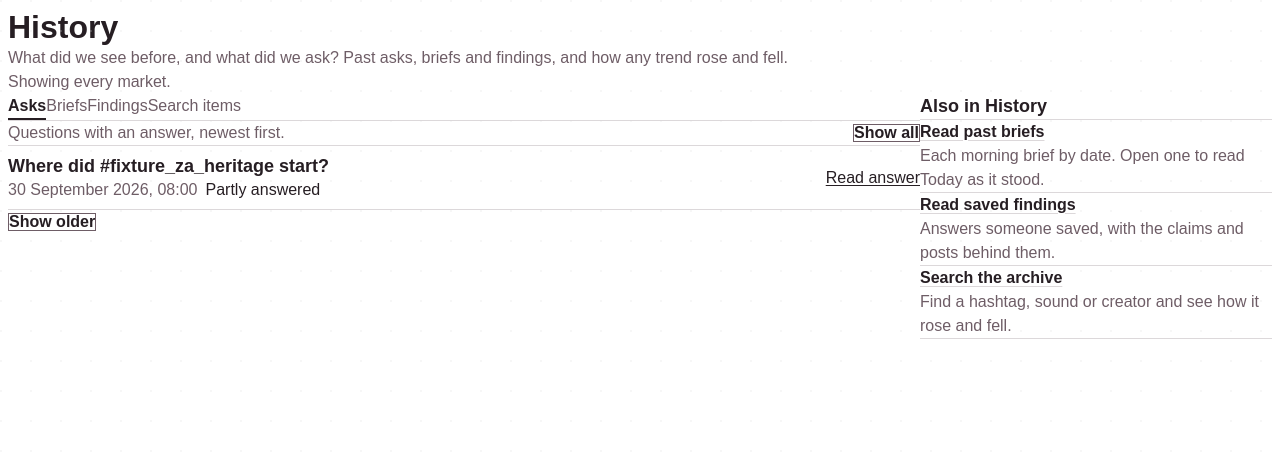
Test: a saved Finding keeps its version, context and caveats readable as text
This screenshot has width=1280, height=454.
Click the tab "Findings" at (117, 107), box top-left (87, 94), bottom-right (148, 120)
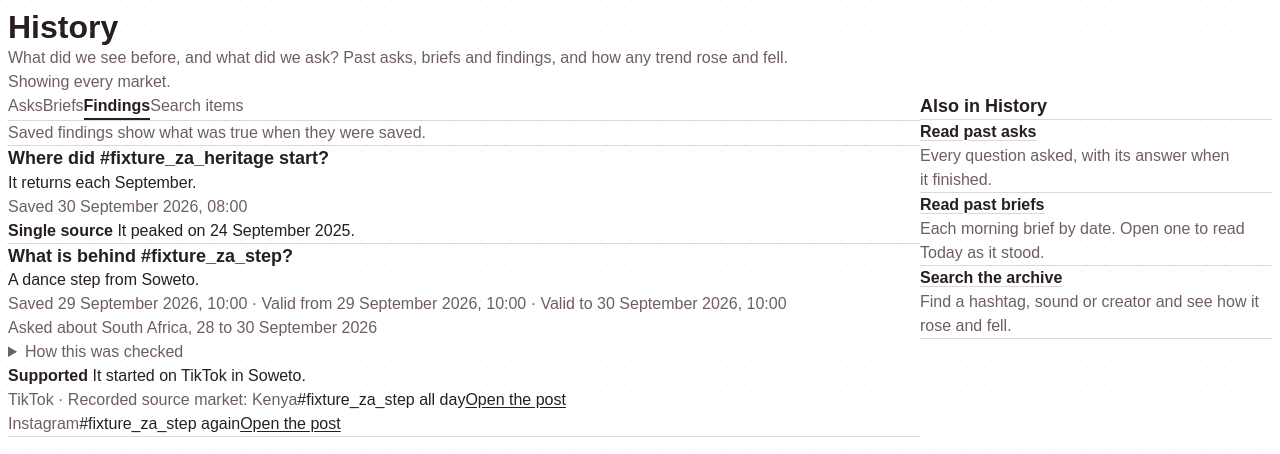
Check: the list item that starts with "What is behind #fixture_za_step?" shows "Valid from 29 September 2026, 10:00", box top-left (8, 295), bottom-right (787, 312)
Check: the list item that starts with "What is behind #fixture_za_step?" shows "Valid to 30 September 2026, 10:00", box top-left (8, 295), bottom-right (787, 312)
Check: the list item that starts with "What is behind #fixture_za_step?" shows "30 September 2026", box top-left (8, 295), bottom-right (787, 312)
